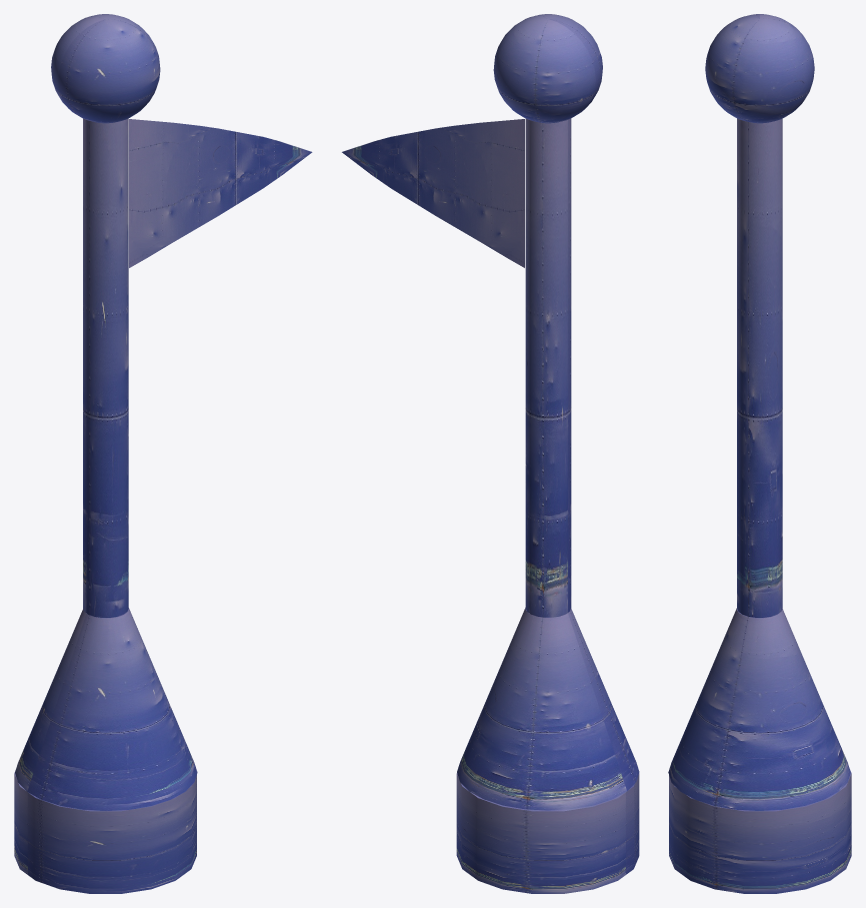
The model's file is beacon.FBX.
3 renders of one model, left to right at view 1: azimuth 30°, elevation 25°; view 2: azimuth 150°, elevation 25°; view 3: azimuth 270°, elevation 25°, orthographic.
Visible parts, largest first — view 1: Cone01, Cylinder02, Cylinder01, Plane01, Sphere01; view 2: Cone01, Cylinder02, Cylinder01, Plane01, Sphere01; view 3: Cone01, Cylinder02, Cylinder01, Sphere01.
Boxes of the visible parts, left/top/right/bottom form: Cone01: left=15, top=608, right=197, bottom=811; Cylinder02: left=83, top=118, right=128, bottom=617; Cylinder01: left=14, top=771, right=196, bottom=893; Plane01: left=129, top=119, right=312, bottom=267; Sphere01: left=51, top=14, right=160, bottom=123; Cone01: left=457, top=607, right=639, bottom=810; Cylinder02: left=525, top=118, right=571, bottom=617; Cylinder01: left=456, top=773, right=639, bottom=893; Plane01: left=342, top=119, right=524, bottom=267; Sphere01: left=493, top=14, right=602, bottom=123; Cone01: left=668, top=608, right=850, bottom=810; Cylinder02: left=737, top=118, right=782, bottom=617; Cylinder01: left=669, top=770, right=851, bottom=893; Sphere01: left=705, top=14, right=814, bottom=123.
Size of the model in its own units: 3.61 by 10.12 by 2.01.
5 materials, 5 textured.
